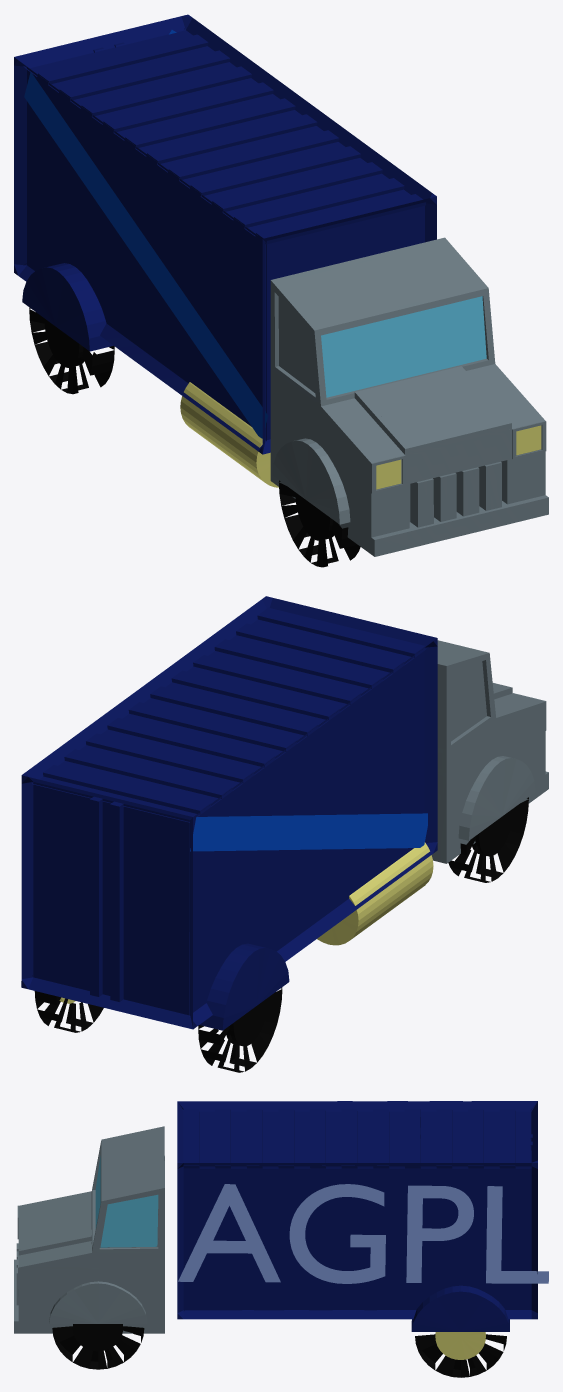
Rendered from Freight.glb.
The picture shows the model from 3 angles, top to bottom: view 1: azimuth 30°, elevation 25°; view 2: azimuth 150°, elevation 25°; view 3: azimuth 270°, elevation 25°; orthographic projection. The views are drawn at different scales.
Parts seen in each view (by area): view 1: Text; view 2: Text; view 3: Text.
Boxes of the visible parts, x1,y1,x2,y2 form: Text: [14, 14, 548, 567]; Text: [21, 596, 548, 1072]; Text: [14, 1101, 548, 1377].
Bounding box in the file's own units: 0.7895 × 1.13 × 2.58.
